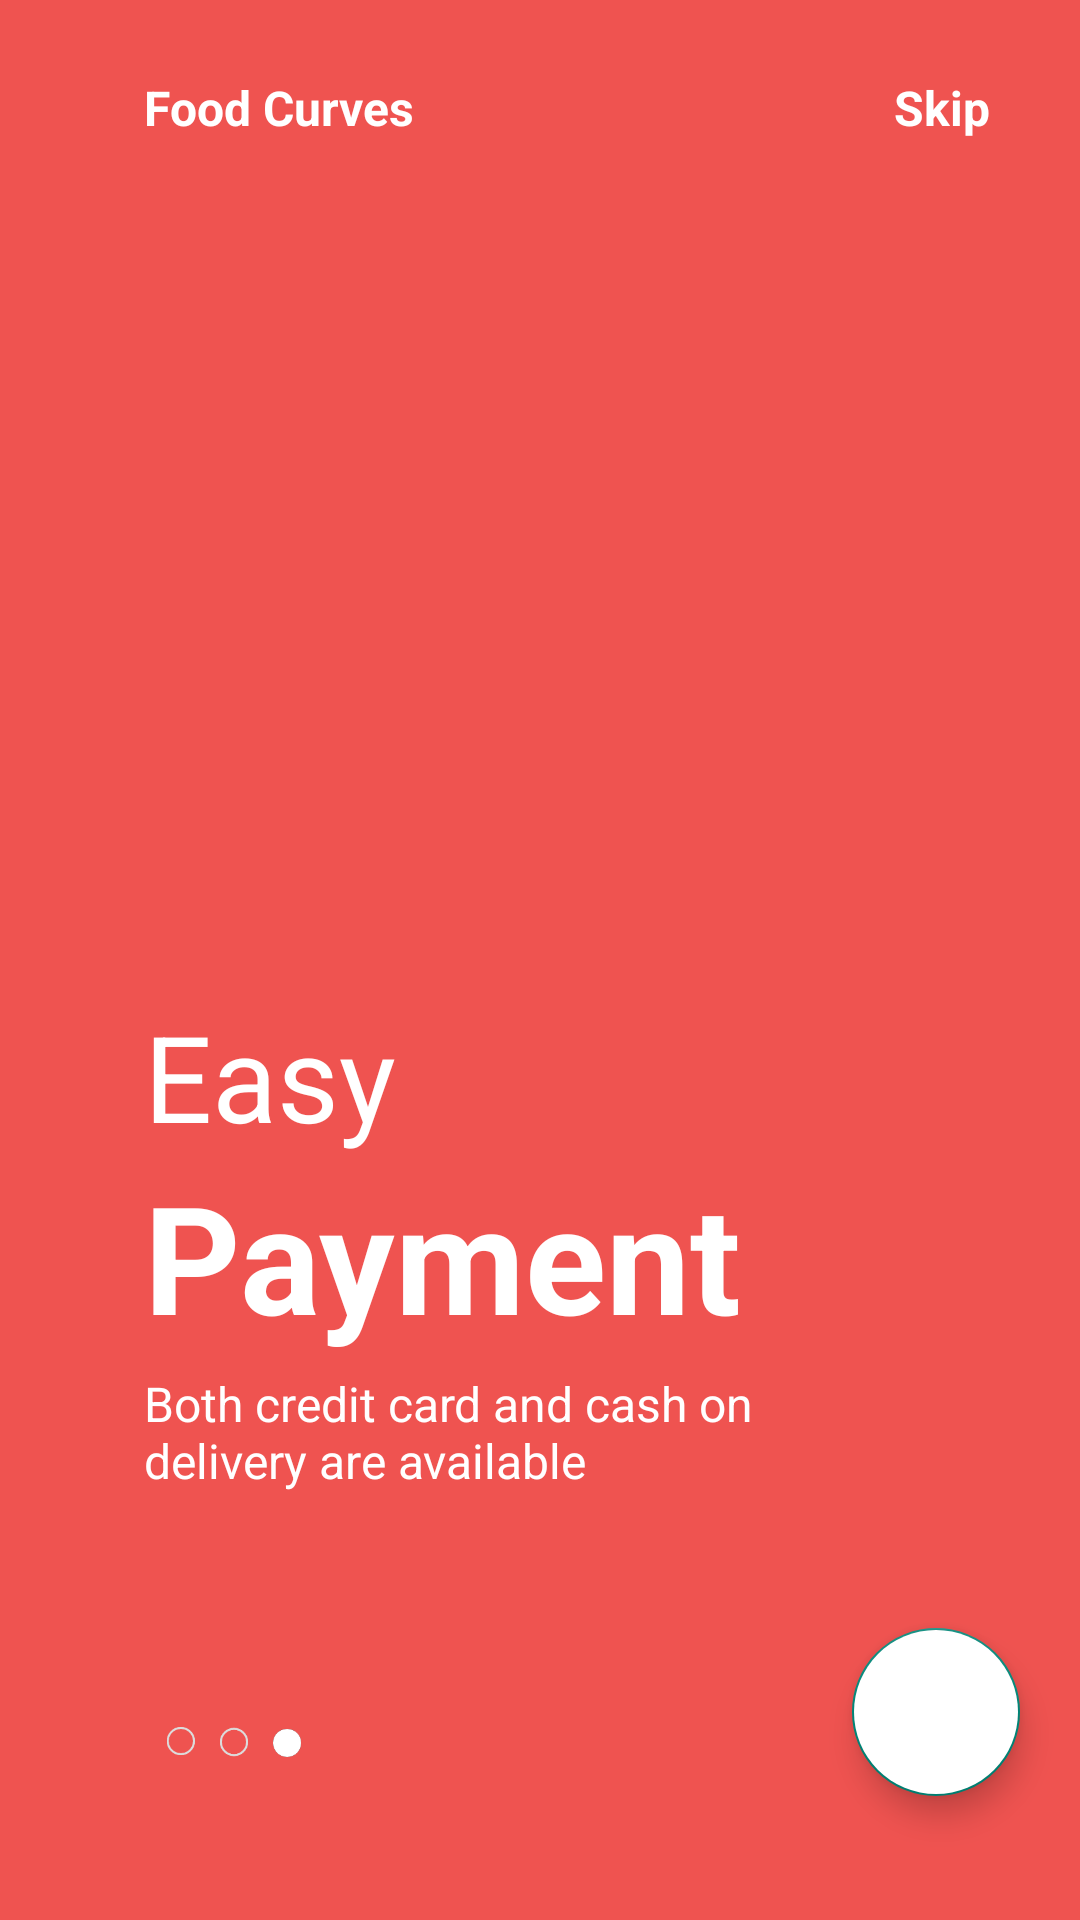

Named icons in this screenshot (1080px x 1920px) and their bounding boxes, box(x1, y1, x2, y2):
tab: box(167, 1727, 301, 1757)
